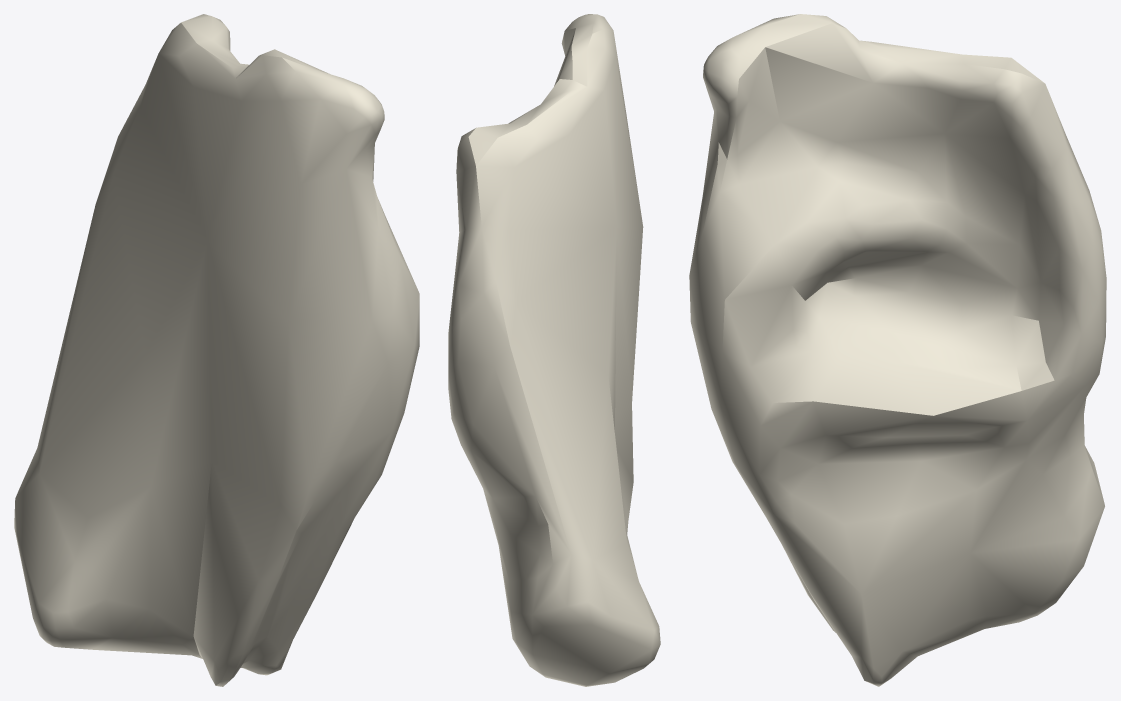
File: fma53645_fj3371.glb
3 renders of one model, left to right at view 1: azimuth 30°, elevation 25°; view 2: azimuth 150°, elevation 25°; view 3: azimuth 270°, elevation 25°, orthographic. The views are drawn at different scales.
Visible parts, largest first — view 1: FMA53645_FJ3371; view 2: FMA53645_FJ3371; view 3: FMA53645_FJ3371.
Part boxes in pixels (x1,y1,x2,y2): FMA53645_FJ3371: (14, 14, 419, 686); FMA53645_FJ3371: (448, 14, 660, 686); FMA53645_FJ3371: (689, 14, 1106, 686).
Bounding box in the file's own units: 0.0106 × 0.0255 × 0.0146.
